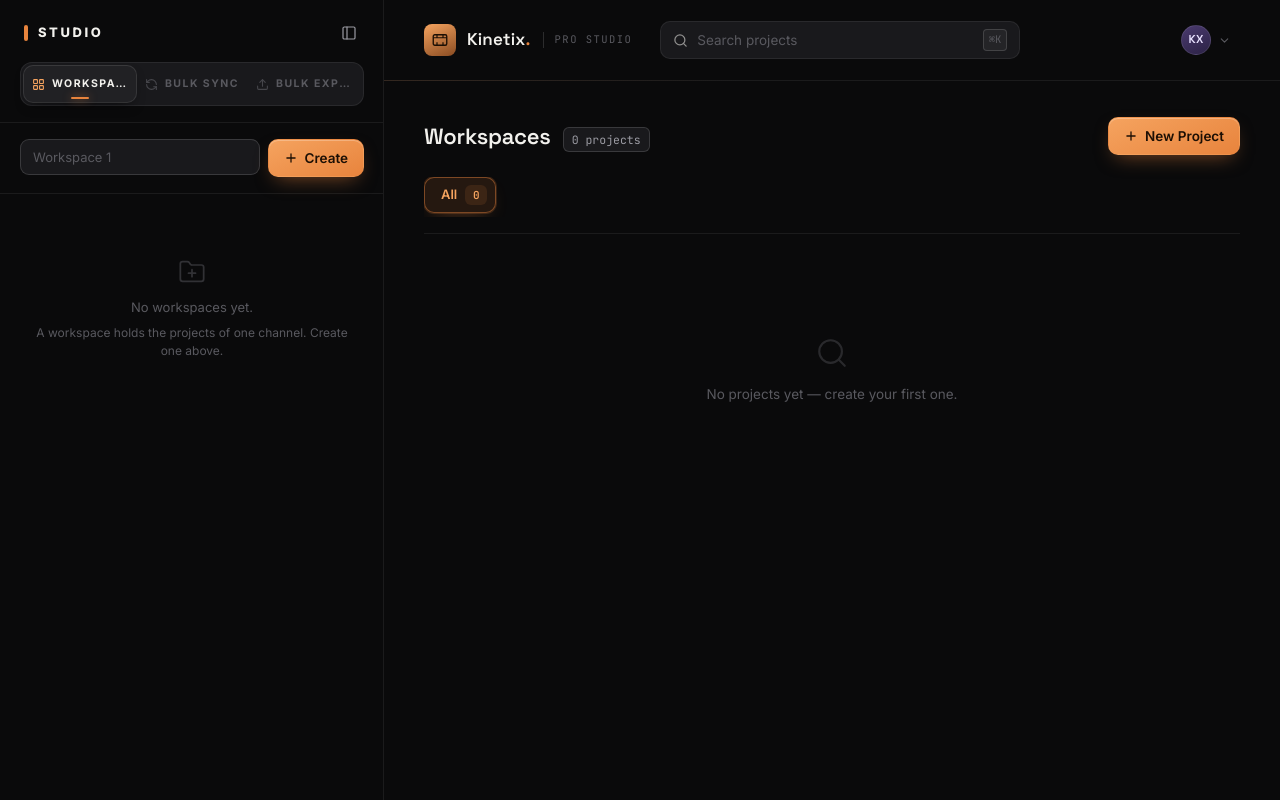
WS2 T4.1 Step 2 — the modal pre-fills from New Project Defaults › a fresh install pre-fills the shipped defaults
Click the button "New Project".
click(1174, 136)  # box left=1108, top=117, right=1240, bottom=155
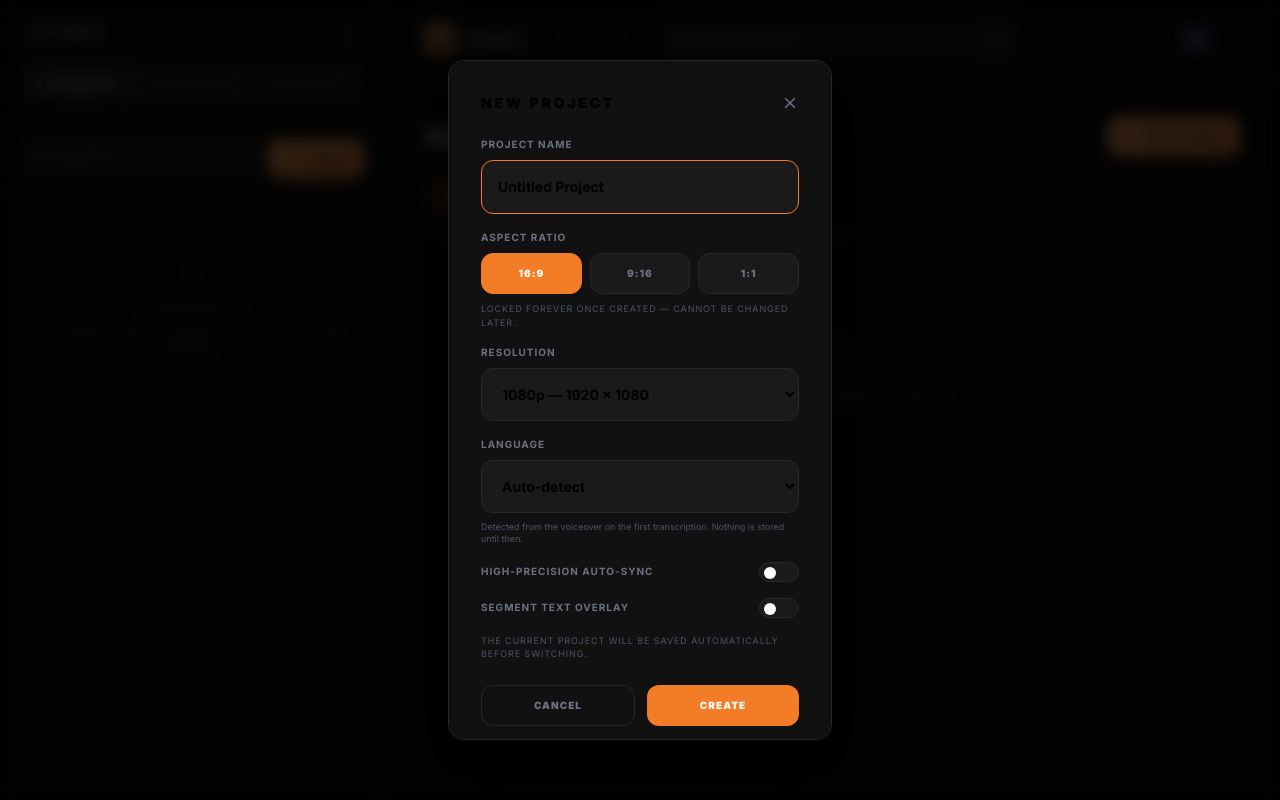
Result: the dialog named "New Project" is shown
Result: the radio button labelled "16:9" is shown at left=481, top=253, right=582, bottom=294
